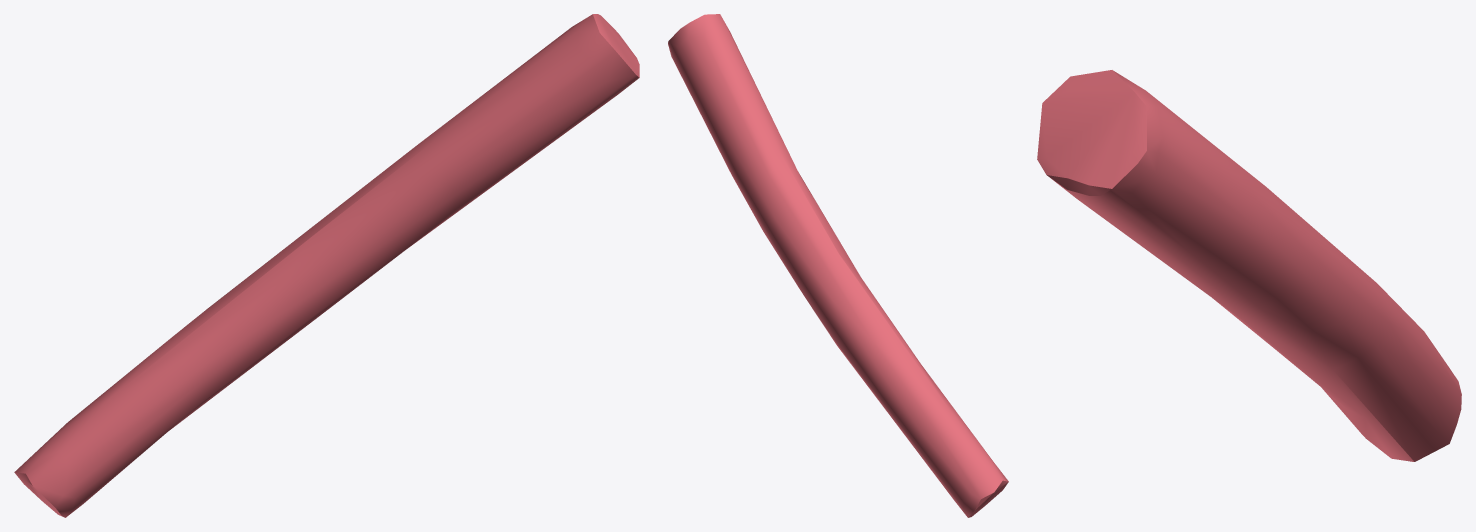
File: fma15405_fj3438.glb
The picture shows the model from 3 angles, left to right: view 1: azimuth 30°, elevation 25°; view 2: azimuth 150°, elevation 25°; view 3: azimuth 270°, elevation 25°; orthographic projection. The views are drawn at different scales.
Visible parts, largest first — view 1: FMA15405_FJ3438; view 2: FMA15405_FJ3438; view 3: FMA15405_FJ3438.
Boxes of the visible parts, x1=… form: FMA15405_FJ3438: x1=14, y1=14, x2=639, y2=517; FMA15405_FJ3438: x1=668, y1=14, x2=1008, y2=517; FMA15405_FJ3438: x1=1037, y1=70, x2=1461, y2=461.
Bounding box in the file's own units: 0.0242 × 0.0207 × 0.0109.
